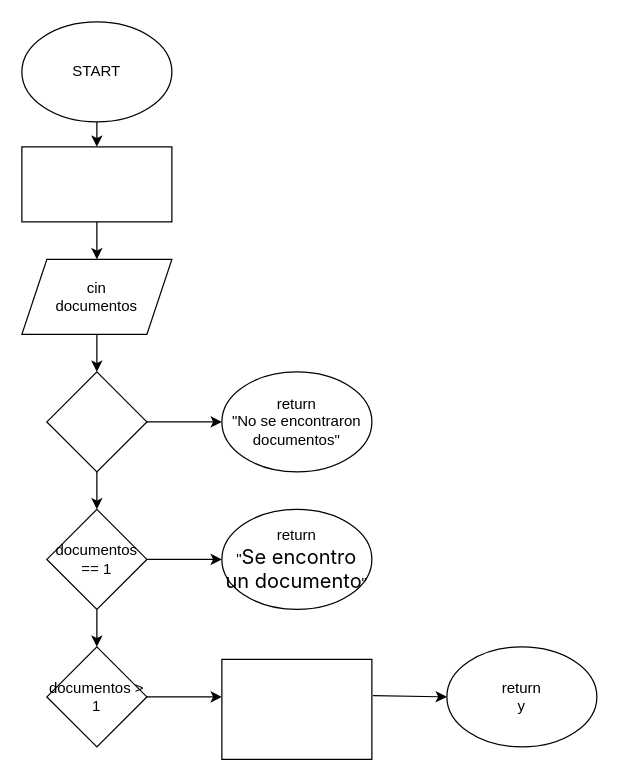
Some shapes in this 619 by 781 pixel diagram are drawn without their labels. Each missing label, with the centre of its shape:
documentos == 0: the point at 96,421
int documentos: the point at 96,184
string x to_string(documentos) string y = x "documentos encontrados": the point at 296,708
